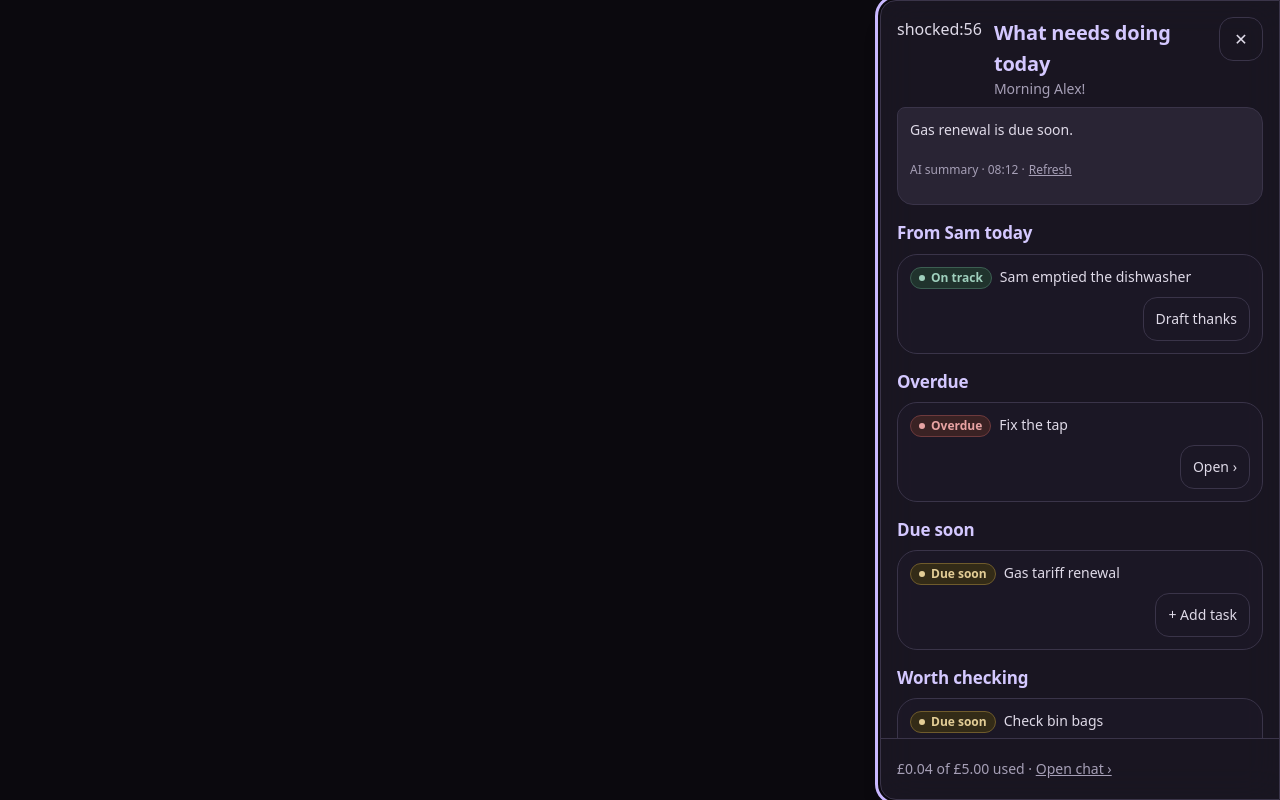
Scenario: HomeyPanel › shows propose error
This screenshot has width=1280, height=800.
Click the button "+ Add task" at (1203, 615), box [1156,593,1250,637]
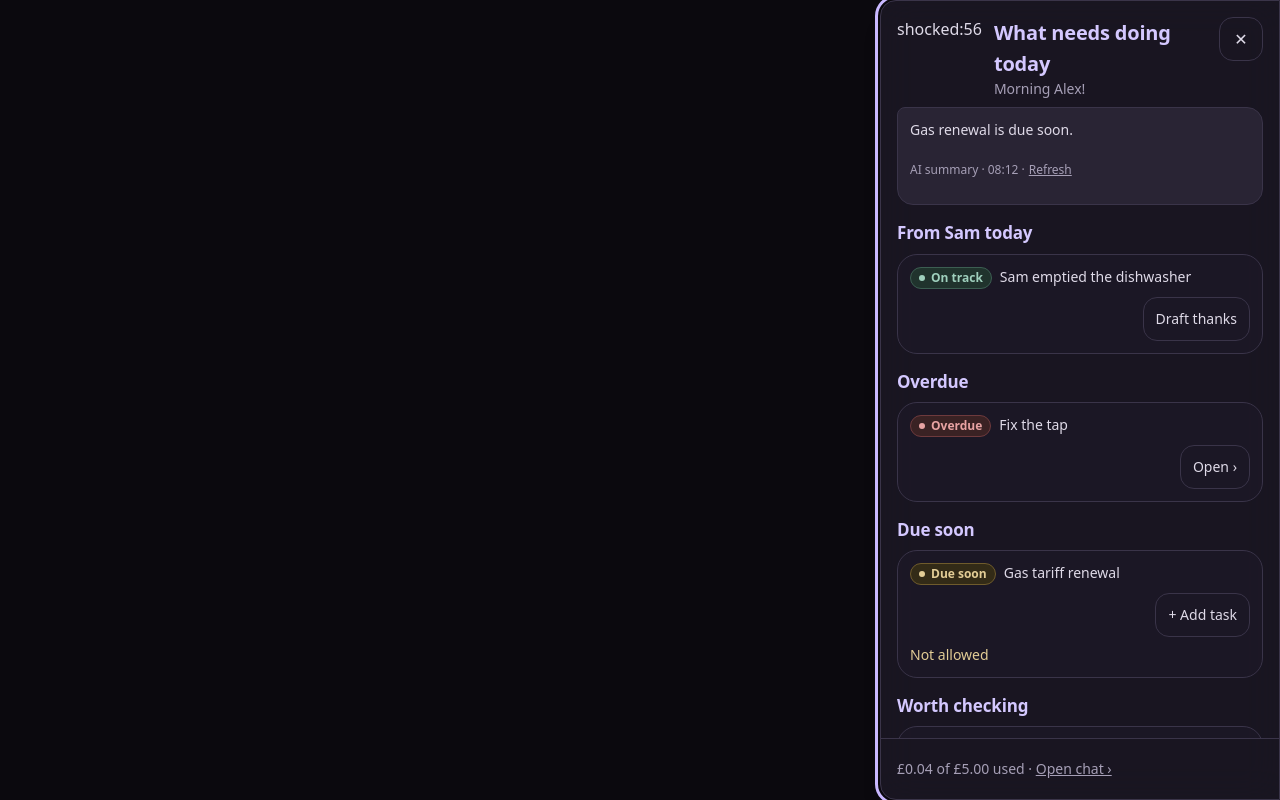
Check: the message reads "Not allowed", box [910,645,989,664]
